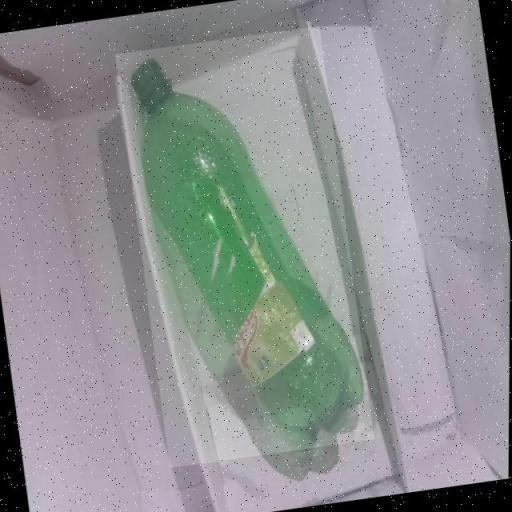plastic: (130, 59, 365, 441)
